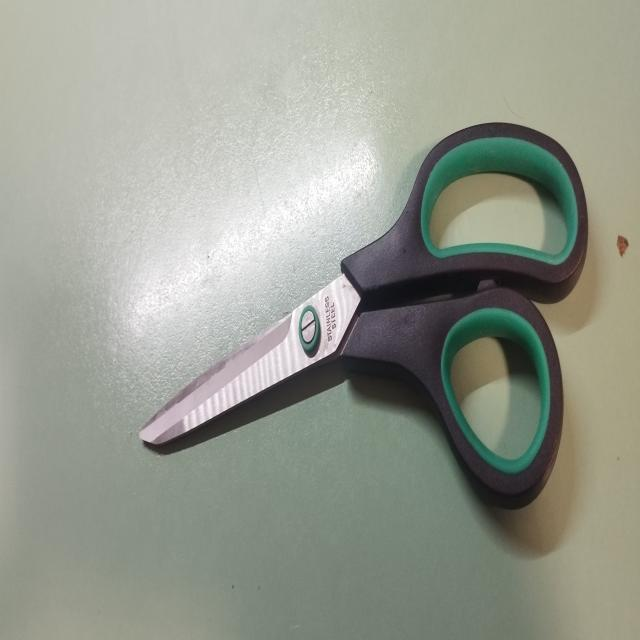tesoura: (134, 112, 594, 520)
